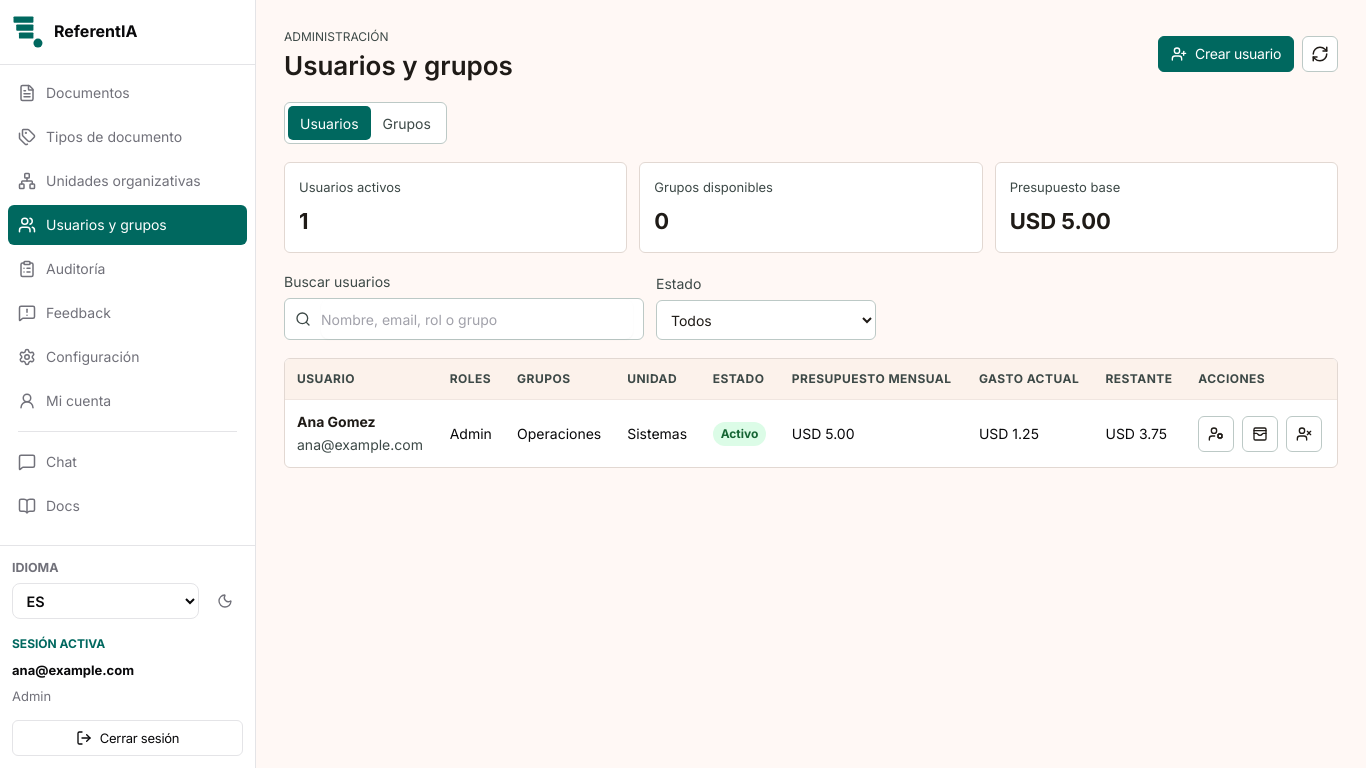
Test case: management users and budgets › saves a budget change and shows a success state
Click the button named "Editar presupuesto de Ana Gomez" at (1260, 434), box [1242,416,1278,452]
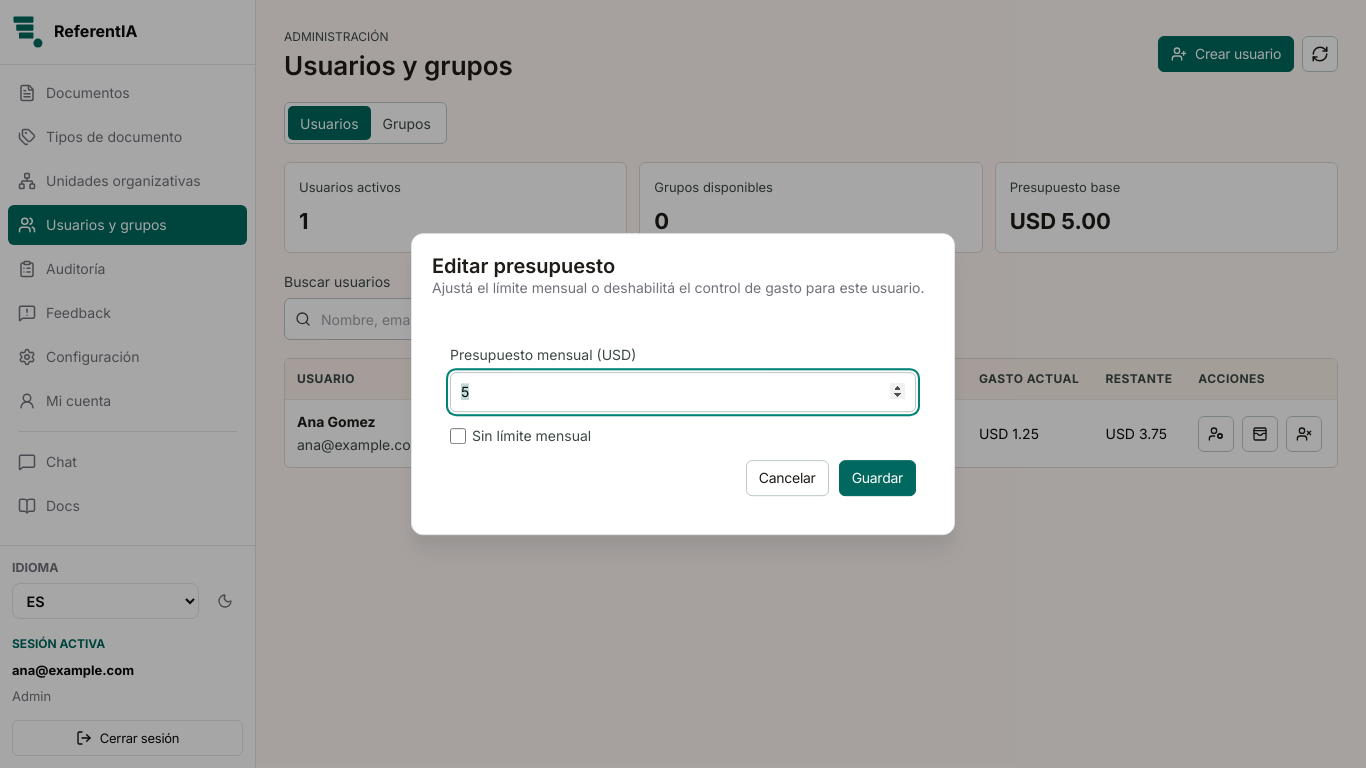
Replace the text in the number field labelled "Presupuesto mensual (USD)" with "7" at (683, 392), box [450,372,916,412]
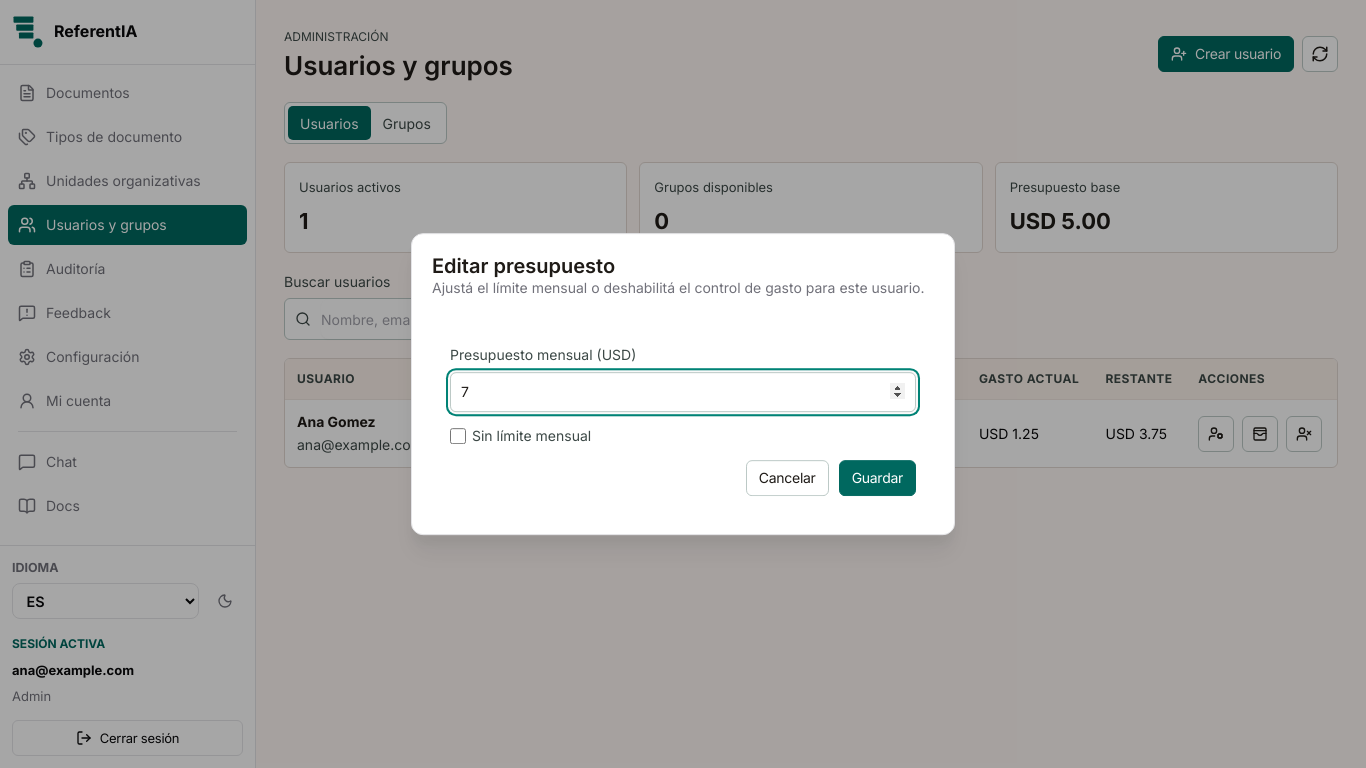
Click the button "Guardar" at (877, 478), box [839,460,916,496]
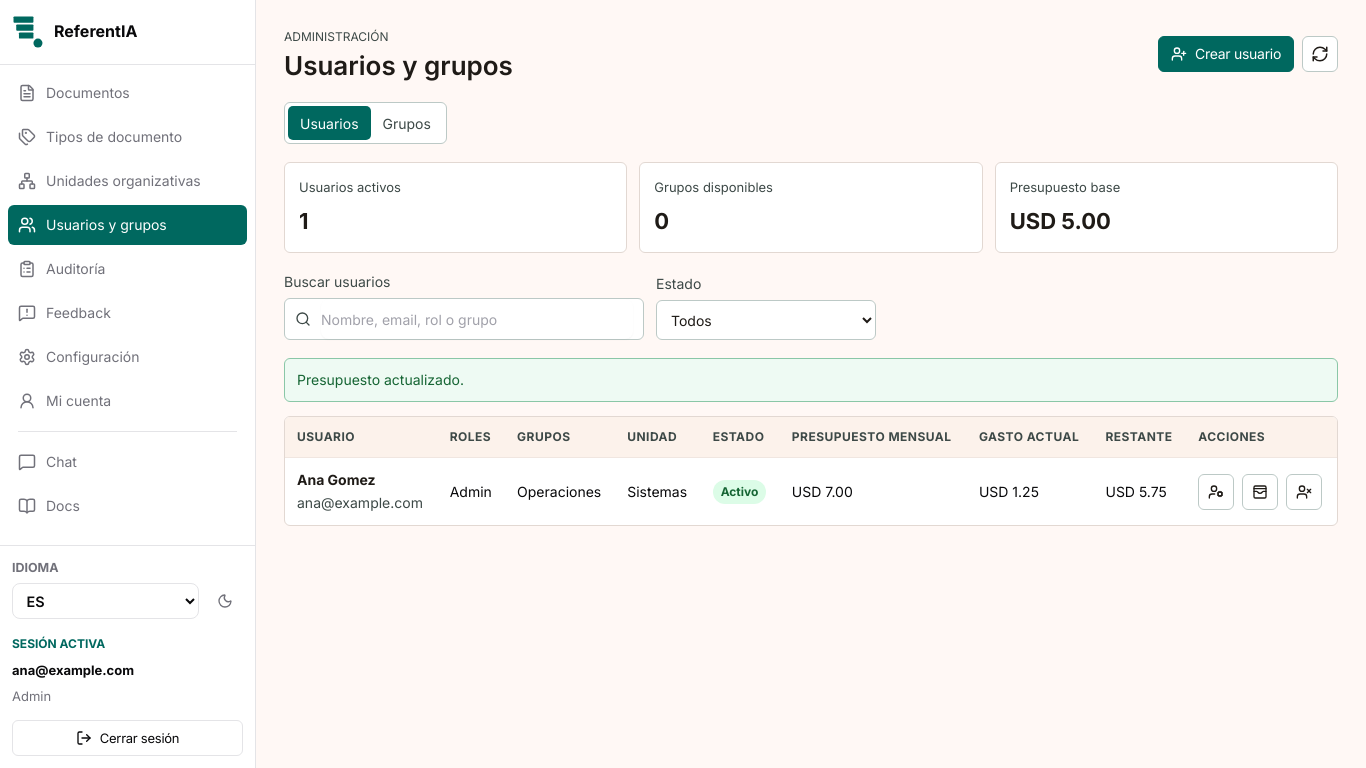
Result: the text "Presupuesto actualizado." is shown at [284,358,1338,402]
Result: the text "USD 7.00" is shown at [780,458,967,525]
